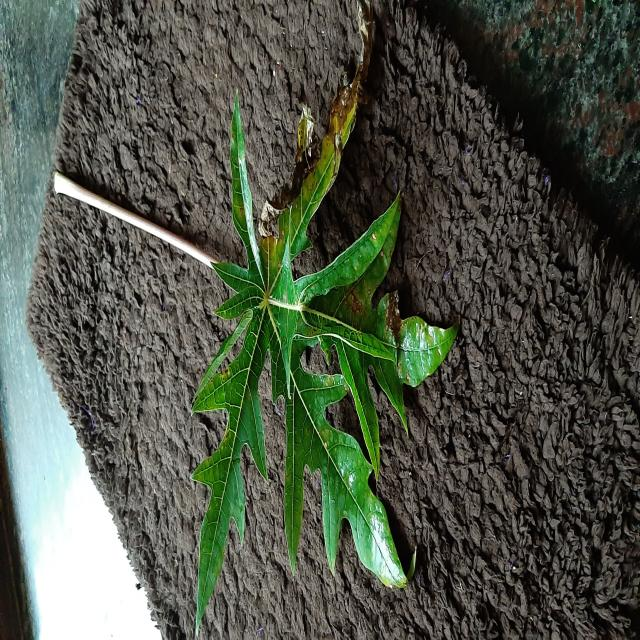seedling blight: (192, 5, 406, 631)
